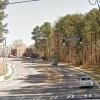Tree: (29, 13, 100, 62)
